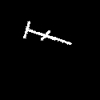double_crochet: (23, 21, 71, 44)
